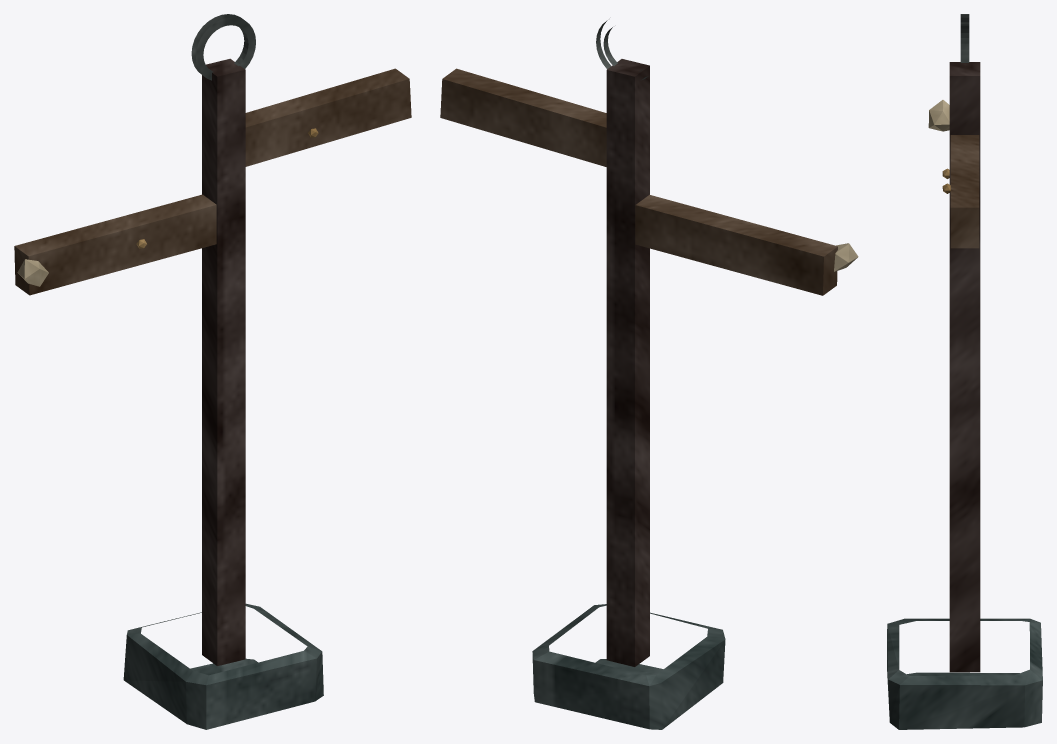
File: 0650_signpost_25.glb
3 renders of one model, left to right at view 1: azimuth 30°, elevation 25°; view 2: azimuth 150°, elevation 25°; view 3: azimuth 270°, elevation 25°, orthographic.
Parts seen in each view (by area): view 1: wood_dark, wood, stone_dark, iron; view 2: wood_dark, wood, stone_dark; view 3: wood_dark, stone_dark, wood, bone, iron.
Part boxes in pixels (x1,y1,x2,y2): wood_dark: [202, 58, 245, 665]; wood: [14, 68, 411, 295]; stone_dark: [123, 603, 323, 729]; iron: [191, 14, 255, 80]; wood_dark: [606, 59, 649, 666]; wood: [440, 68, 837, 295]; stone_dark: [532, 604, 725, 729]; wood_dark: [949, 62, 980, 672]; stone_dark: [887, 618, 1042, 729]; wood: [950, 135, 979, 248]; bone: [928, 100, 949, 131]; iron: [960, 14, 969, 62].
Bounding box in the file's own units: 2.1 × 3.43 × 0.7091.
6 materials, 6 textured.
